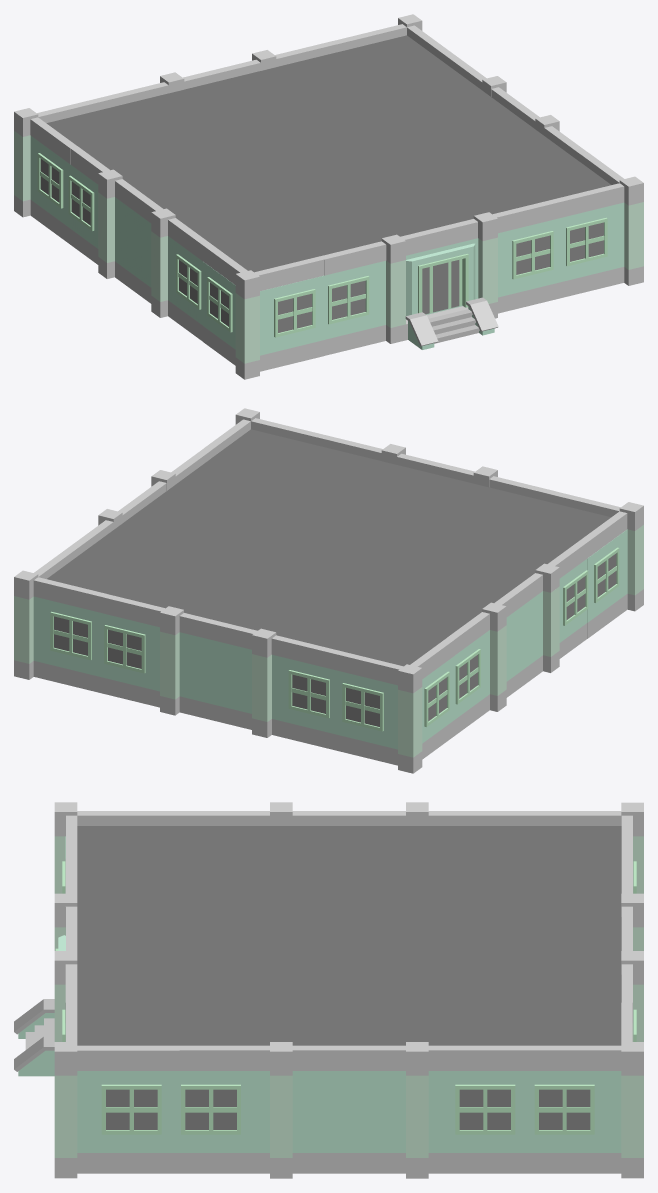
The model's file is building_teal_school.fbx.
3 views of the same model, one above another, from view 1: azimuth 30°, elevation 25°; view 2: azimuth 150°, elevation 25°; view 3: azimuth 270°, elevation 25° (orthographic). The views are drawn at different scales.
Parts seen in each view (by area): view 1: building_teal_school; view 2: building_teal_school; view 3: building_teal_school.
Part boxes in pixels (bbox=[...]): building_teal_school: bbox=[14, 14, 643, 379]; building_teal_school: bbox=[14, 408, 643, 773]; building_teal_school: bbox=[14, 802, 643, 1178].
Size of the model in its own units: 520 by 124 by 556.
